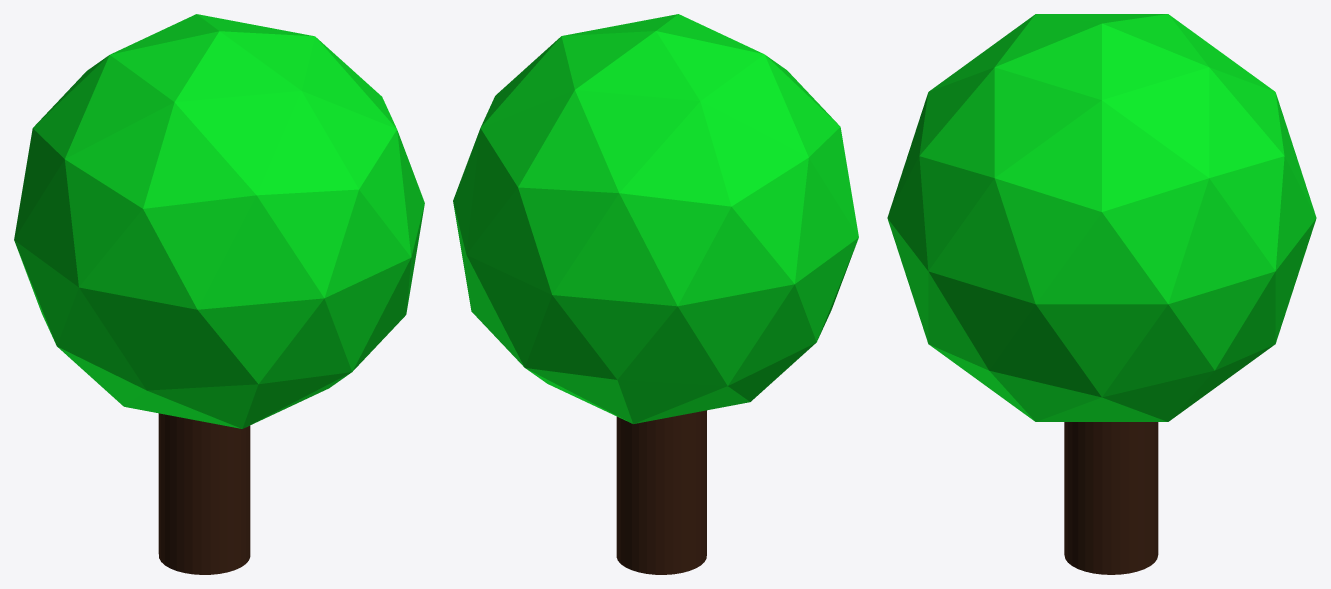
The model's file is Tree.fbx.
3 renders of one model, left to right at view 1: azimuth 30°, elevation 25°; view 2: azimuth 150°, elevation 25°; view 3: azimuth 270°, elevation 25°, orthographic. The views are drawn at different scales.
Visible parts, largest first — view 1: Cylinder; view 2: Cylinder; view 3: Cylinder.
Boxes of the visible parts, x1,y1,x2,y2 form: Cylinder: (14,14,424,574); Cylinder: (453,14,858,574); Cylinder: (887,14,1316,574).
Size of the model in its own units: 516 by 749 by 543.
